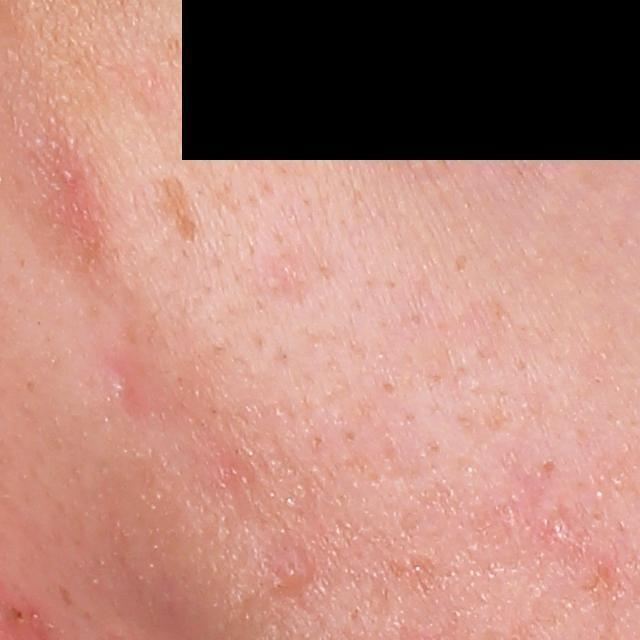melasma: (157, 177, 201, 248)
papule: (100, 361, 141, 414)
